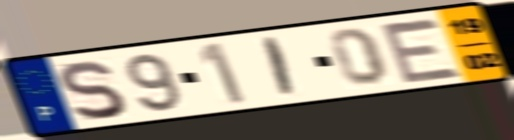0: (329, 26, 392, 89)
1: (197, 40, 249, 108)
9: (121, 51, 186, 114)
E: (376, 16, 467, 85)
I: (262, 34, 298, 100)
S: (55, 59, 128, 124)
